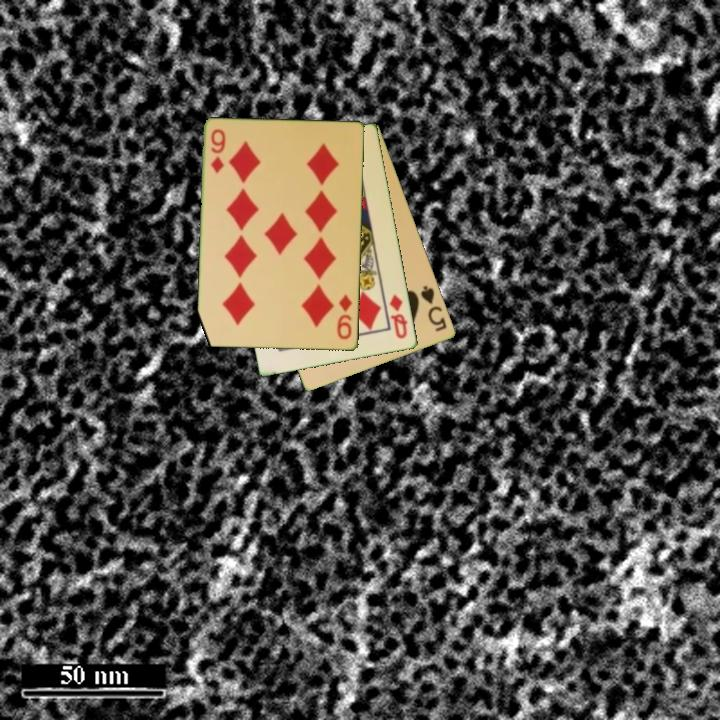5s: (417, 282, 450, 335)
9d: (207, 126, 229, 176), (334, 292, 355, 342)
Qd: (386, 291, 411, 342)
